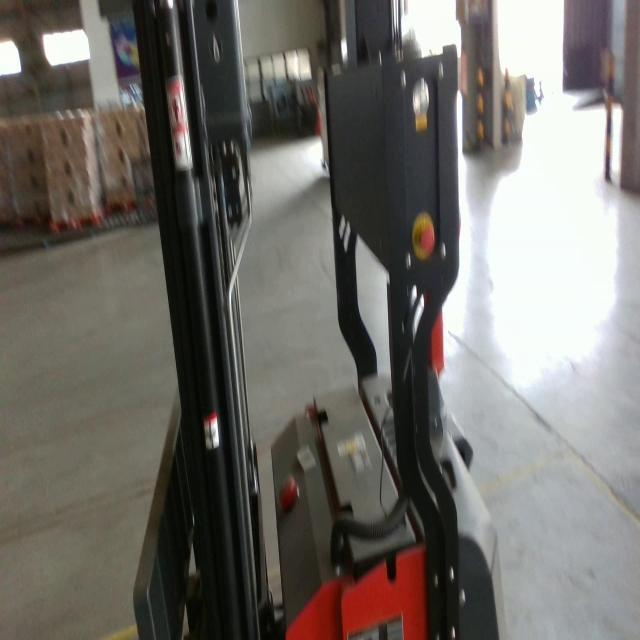forklift: (132, 0, 512, 640)
